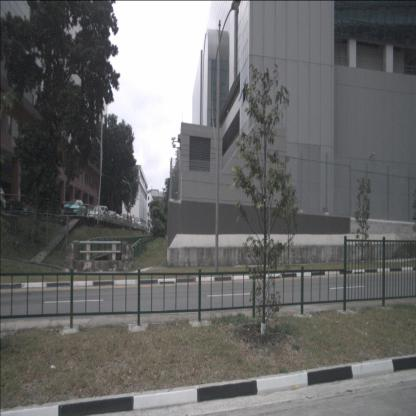human-pedestrian-adult: (132, 214, 135, 226), (120, 212, 123, 222), (127, 212, 129, 225)
vehicle-car: (61, 200, 87, 216), (87, 204, 103, 219), (96, 206, 108, 218), (120, 212, 130, 222), (106, 210, 115, 219), (110, 211, 118, 219)
